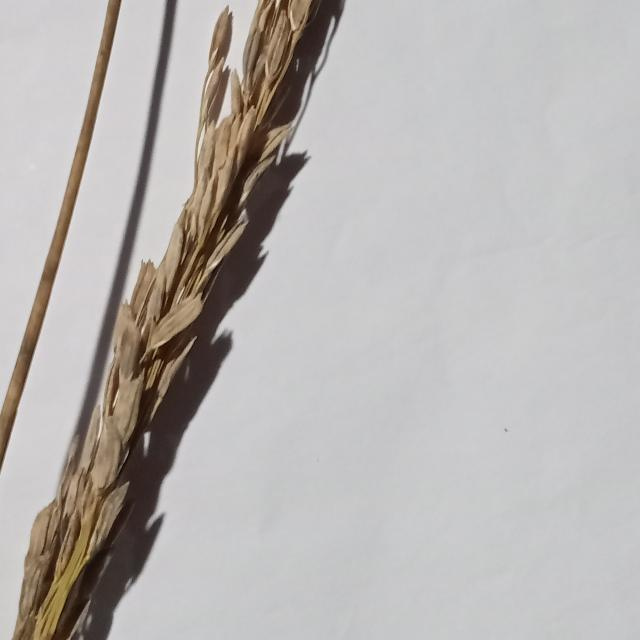Neck_Blast: (17, 0, 375, 640)
